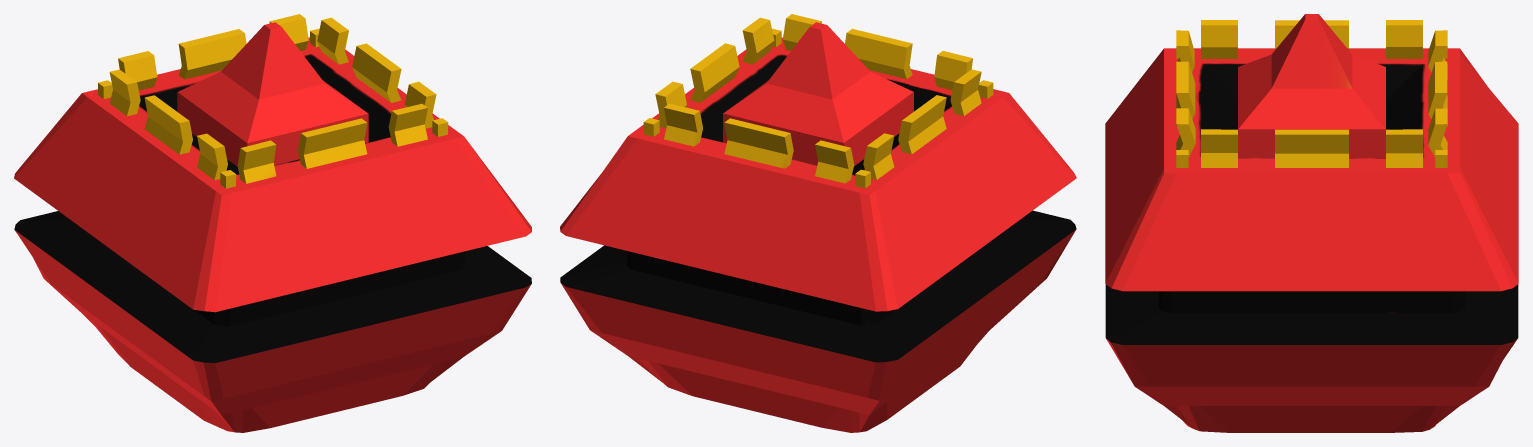
The model's file is Enemy_First.fbx.
The picture shows the model from 3 angles, left to right: view 1: azimuth 30°, elevation 25°; view 2: azimuth 150°, elevation 25°; view 3: azimuth 270°, elevation 25°; orthographic projection. The views are drawn at different scales.
Parts seen in each view (by area): view 1: Cube; view 2: Cube; view 3: Cube.
Part boxes in pixels (left/top/right/bottom): Cube: left=14, top=14, right=531, bottom=432; Cube: left=560, top=14, right=1076, bottom=432; Cube: left=1105, top=14, right=1518, bottom=432.
Bounding box in the file's own units: 280 × 270 × 280.
